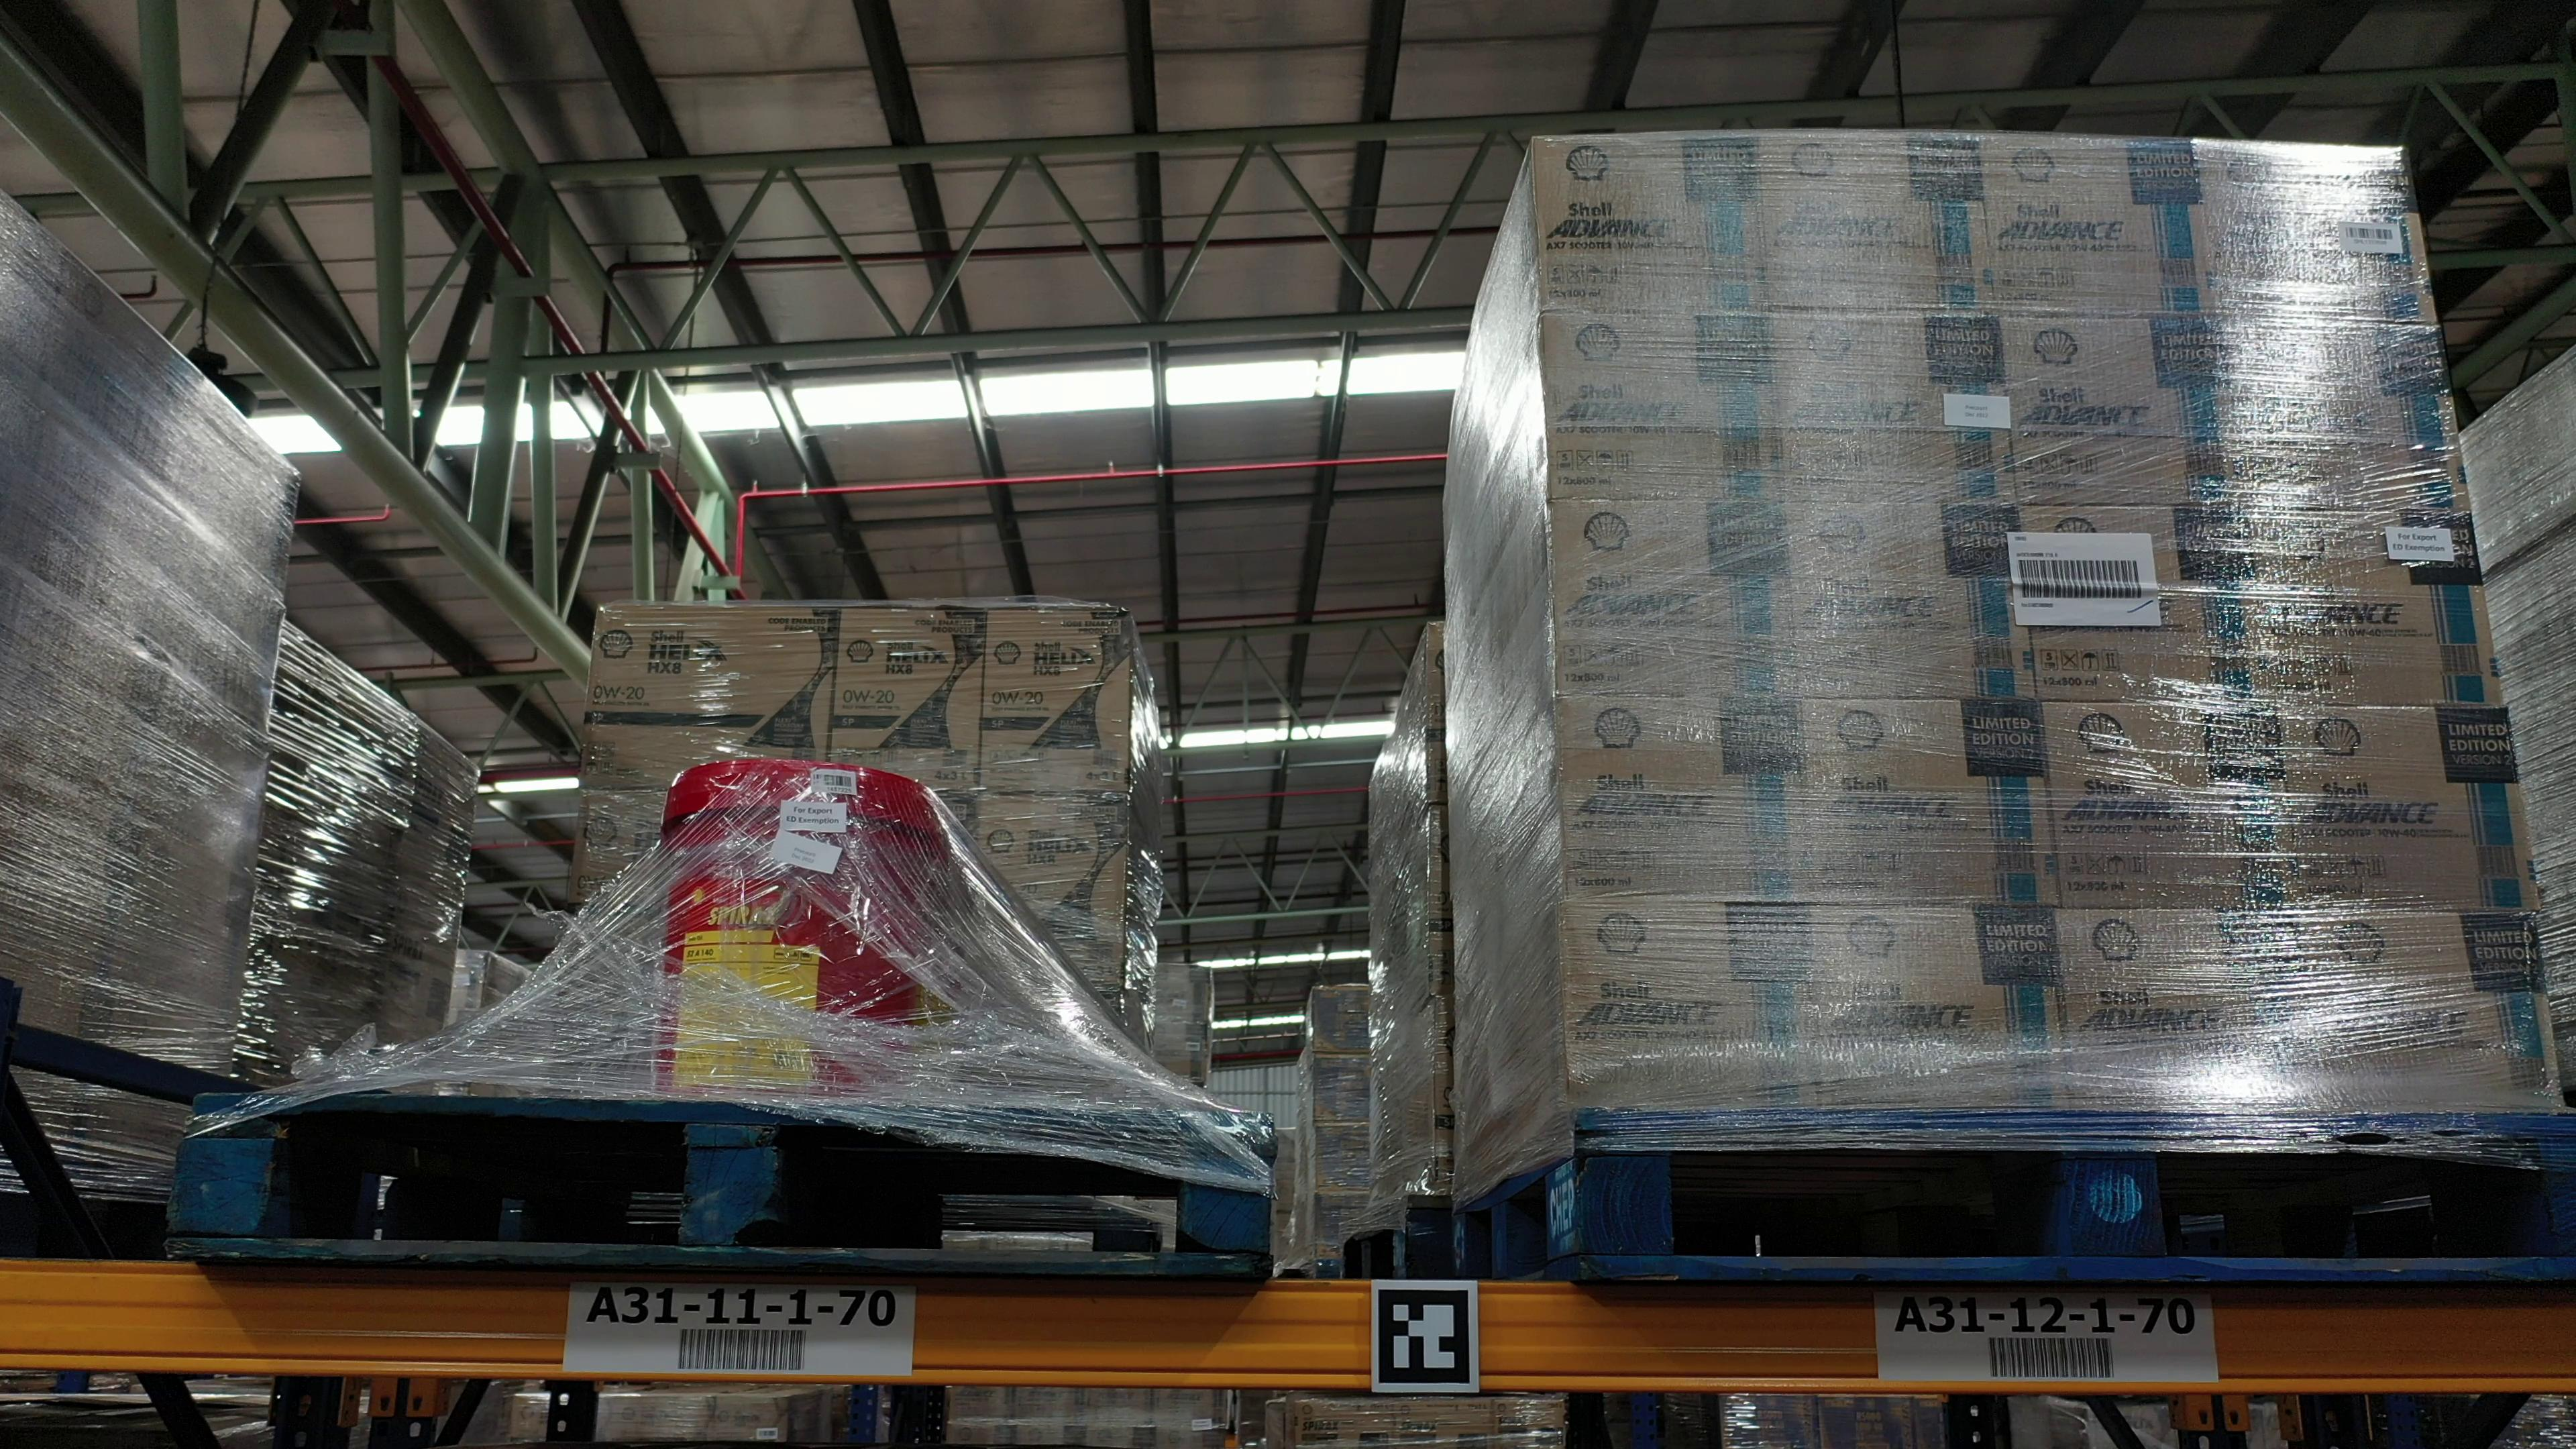-: (653, 763, 948, 1102), (1799, 694, 2061, 909), (2273, 701, 2539, 913), (2040, 701, 2302, 915), (1553, 694, 1813, 906), (1813, 899, 2074, 1111), (1559, 901, 1822, 1109), (2302, 913, 2562, 1116), (1780, 501, 2040, 702), (2059, 913, 2319, 1113), (2245, 511, 2502, 711), (2019, 501, 2268, 706), (1550, 499, 1798, 702), (2220, 320, 2472, 515), (1769, 311, 2019, 506), (1541, 311, 1785, 506), (2194, 138, 2434, 329), (1999, 317, 2240, 506), (1980, 134, 2220, 320), (1757, 134, 1997, 313), (1534, 134, 1771, 313)
box: (584, 603, 840, 791), (977, 607, 1129, 800), (830, 607, 985, 794)
